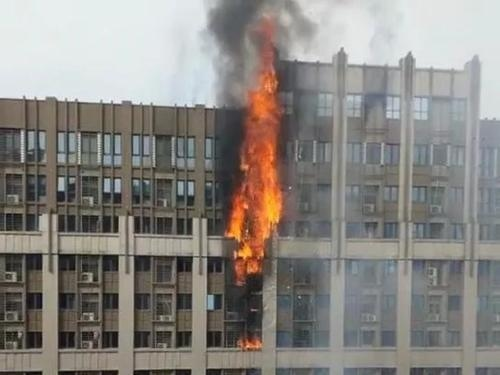fire: (225, 30, 287, 279), (235, 331, 265, 352)
